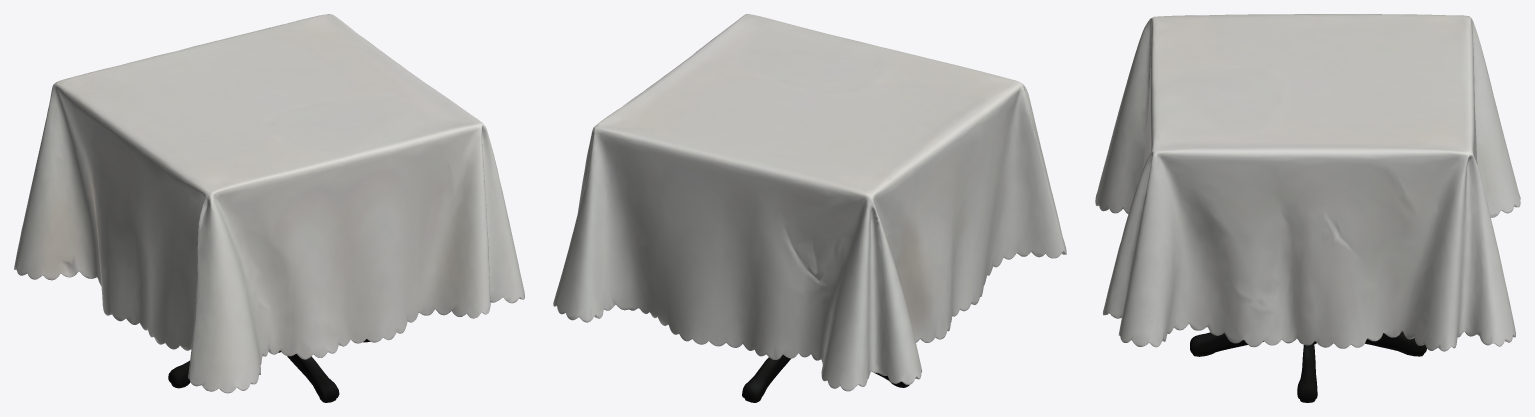
3 views of the same model, side by side, from view 1: azimuth 30°, elevation 25°; view 2: azimuth 150°, elevation 25°; view 3: azimuth 270°, elevation 25° (orthographic). The views are drawn at different scales.
Parts seen in each view (by area): view 1: model; view 2: model; view 3: model.
Part boxes in pixels (x1,y1,x2,y2): model: [14, 14, 524, 402]; model: [553, 14, 1066, 402]; model: [1095, 14, 1520, 402].
Bounding box in the file's own units: 1.05 × 0.74 × 1.05.
Materials: 1 (1 with a texture image).
